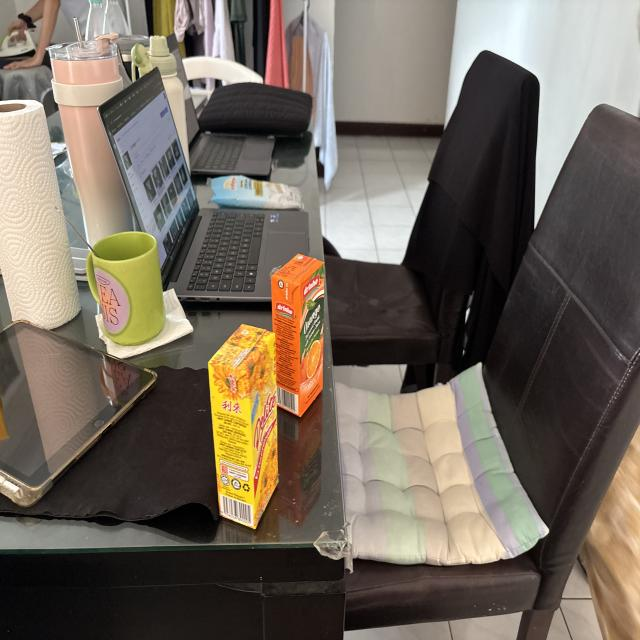drink_carton: (203, 309, 284, 536), (267, 246, 331, 427)
